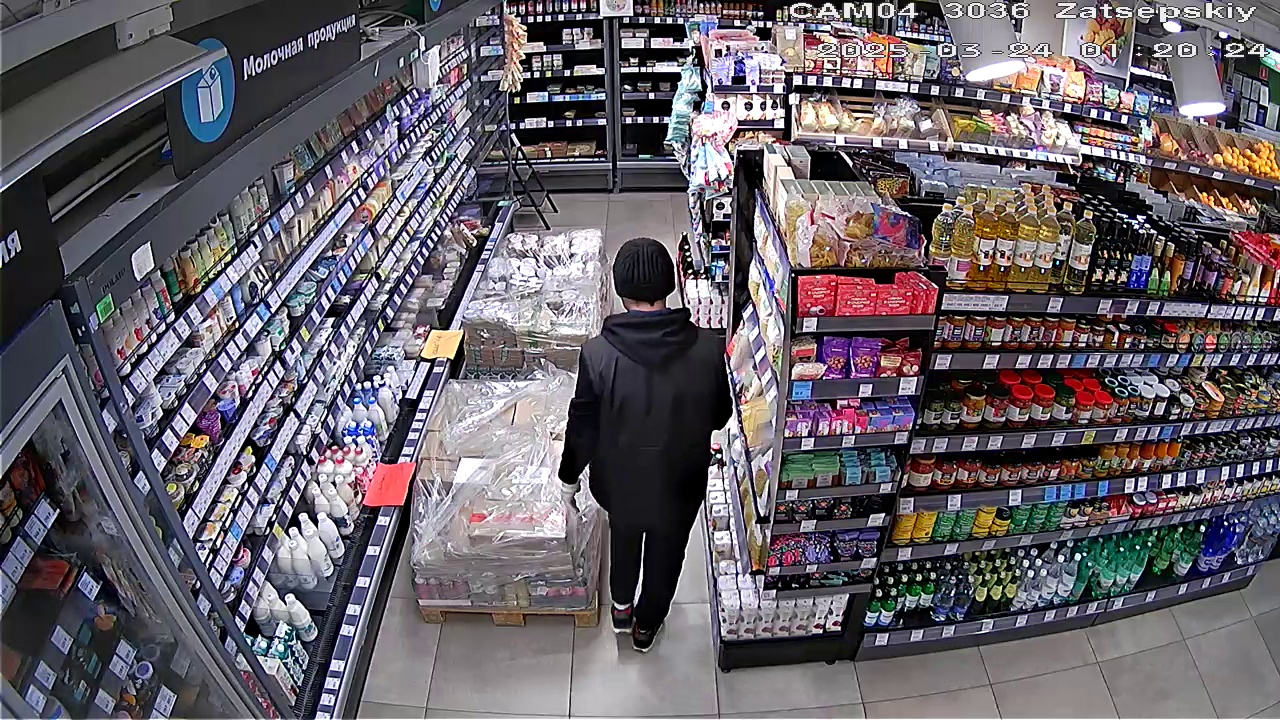Human: (561, 230, 732, 634)
pallet: (410, 366, 594, 622), (460, 217, 609, 352)
